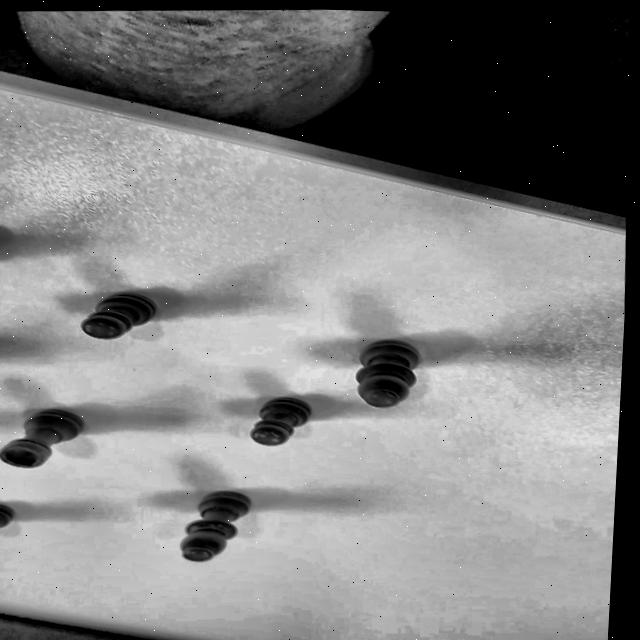black-bishop: (161, 474, 264, 574), (333, 327, 439, 418)
black-pawn: (68, 277, 167, 352), (234, 388, 323, 452)
black-rook: (0, 395, 104, 480)
